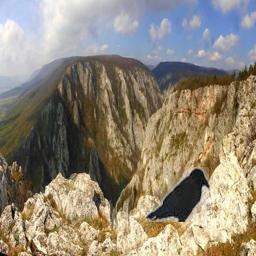Crow: (147, 168, 210, 223)
